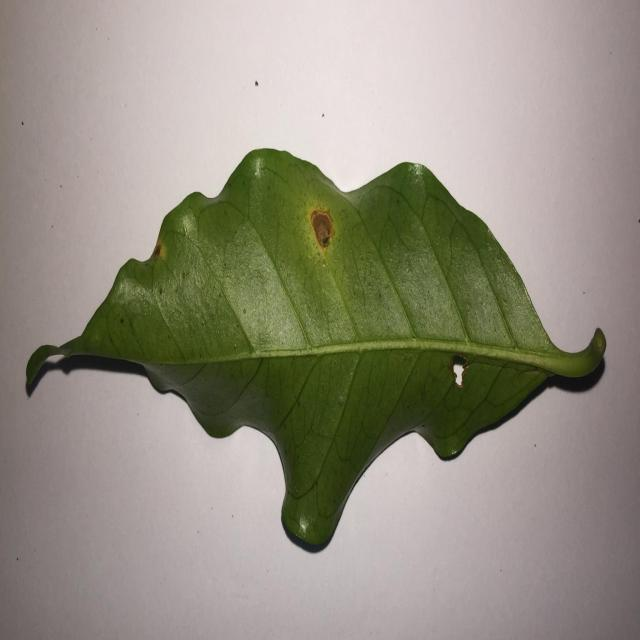Enfermedad-Mancha-de-hierro: (24, 149, 607, 556)
